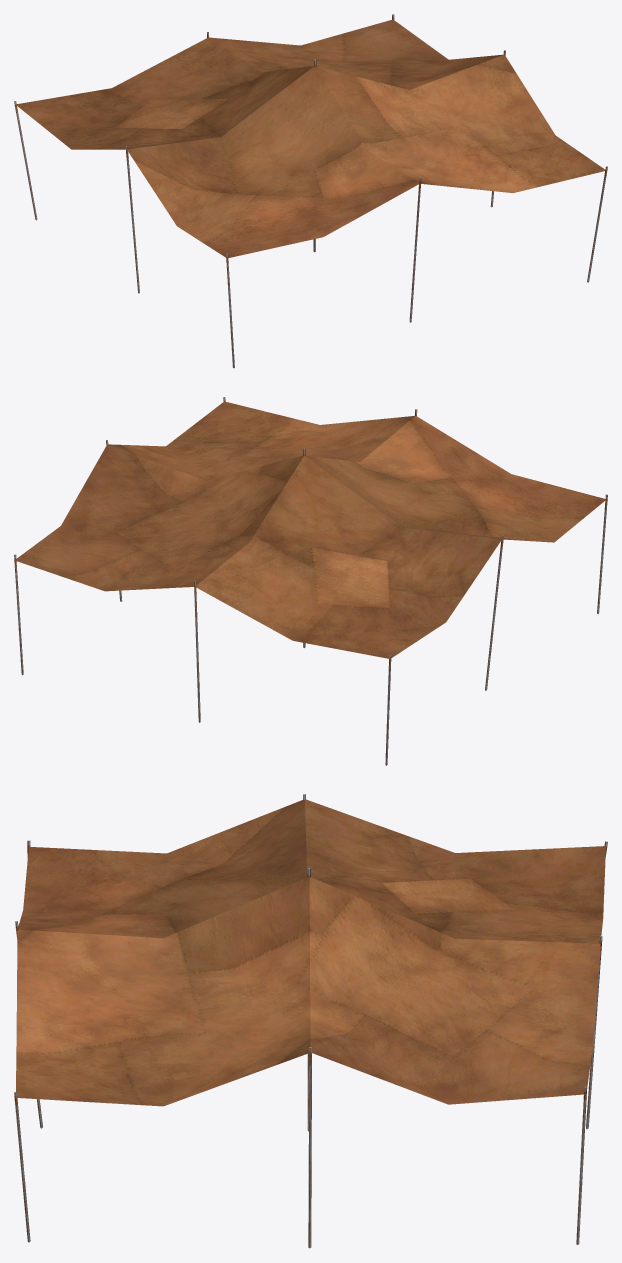
Rendered from thm_tato_jawa_tent_large_l2.fbx.
The picture shows the model from 3 angles, top to bottom: view 1: azimuth 30°, elevation 25°; view 2: azimuth 150°, elevation 25°; view 3: azimuth 270°, elevation 25°; orthographic projection. The views are drawn at different scales.
Visible parts, largest first — view 1: mesh_node; view 2: mesh_node; view 3: mesh_node.
Boxes of the visible parts, x1,y1,x2,y2 form: mesh_node: [14, 14, 607, 368]; mesh_node: [14, 397, 607, 765]; mesh_node: [14, 794, 607, 1248].
Size of the model in its own units: 10.88 by 5.21 by 10.65.
1 material, 1 textured.
